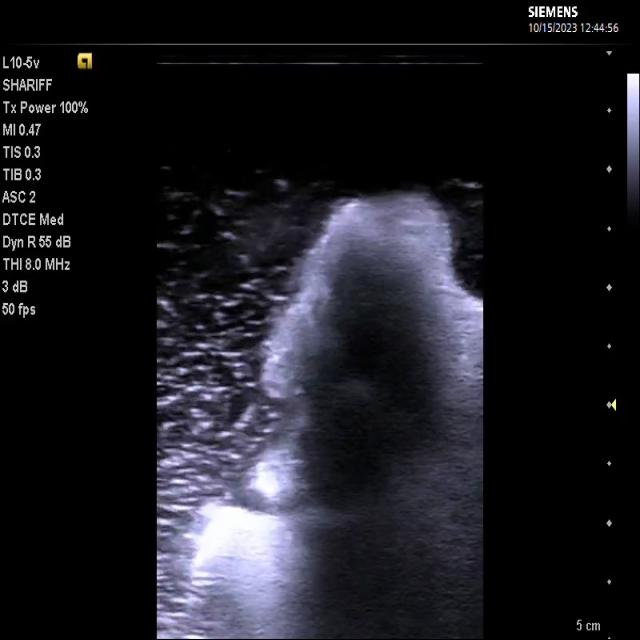tissue: (189, 189, 487, 639)
